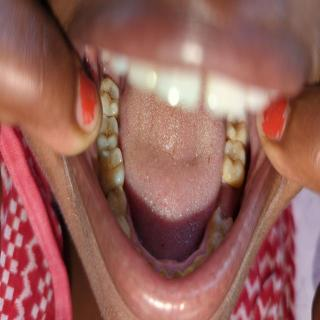calculus: (176, 259, 198, 285), (201, 232, 217, 260)
cavities: (94, 104, 120, 148), (100, 71, 120, 107), (224, 149, 243, 175), (106, 184, 126, 207)
